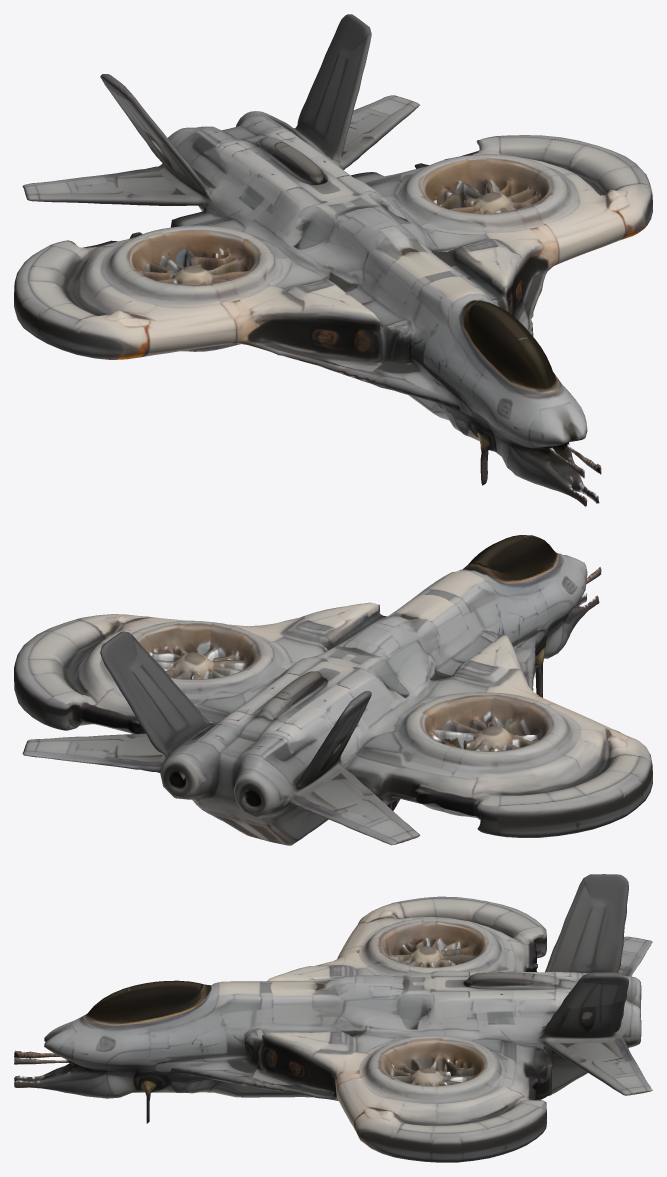
Rendered from enemigo 4.fbx.
3 views of the same model, one above another, from view 1: azimuth 30°, elevation 25°; view 2: azimuth 150°, elevation 25°; view 3: azimuth 270°, elevation 25° (orthographic). The views are drawn at different scales.
Parts seen in each view (by area): view 1: nave enemiga 4; view 2: nave enemiga 4; view 3: nave enemiga 4.
Boxes of the visible parts, bbox=[...] form: nave enemiga 4: bbox=[14, 14, 652, 506]; nave enemiga 4: bbox=[14, 535, 652, 845]; nave enemiga 4: bbox=[14, 874, 652, 1162].
Size of the model in its own units: 172 by 61.68 by 190.
